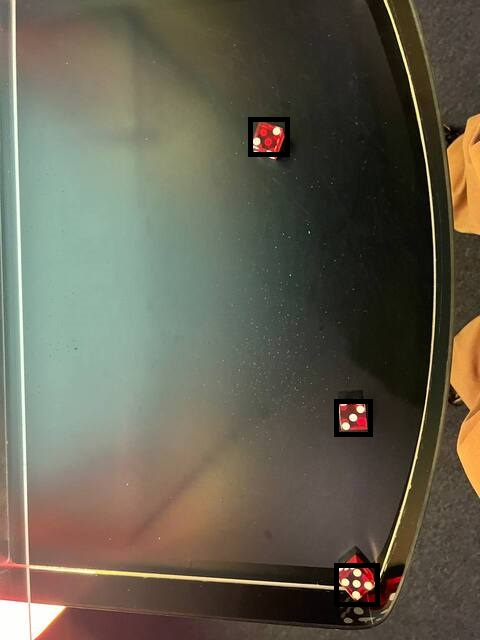five: (336, 565, 377, 604)
three: (336, 401, 370, 434)
two: (250, 119, 287, 154)
